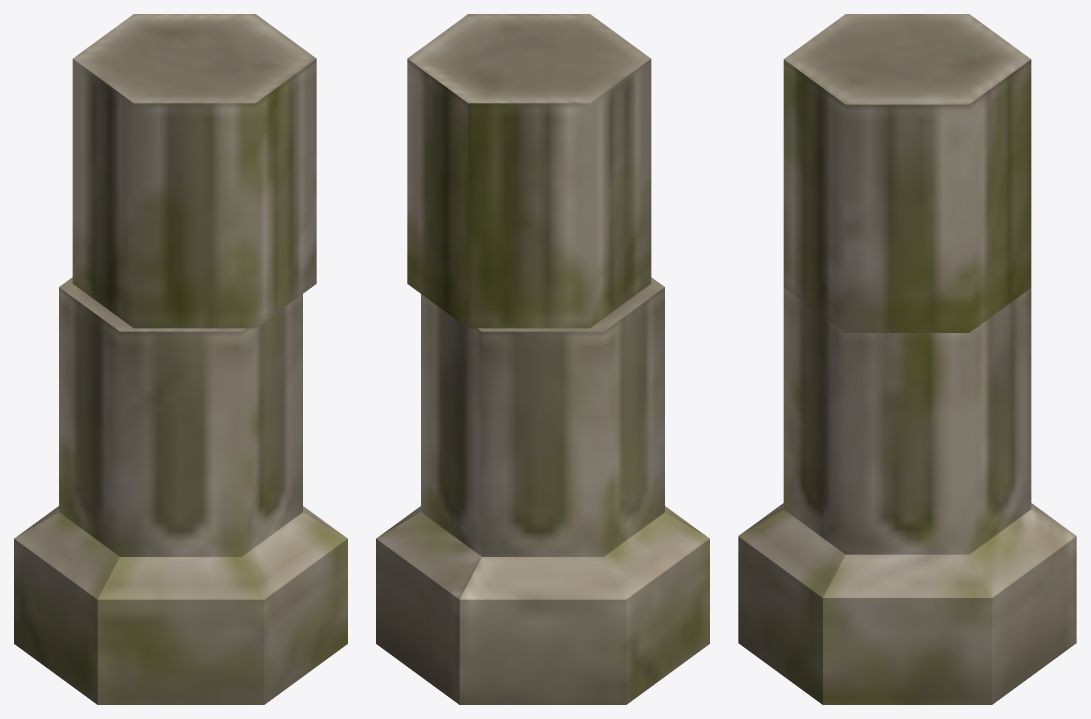
File: swamp_temple_8.FBX
The picture shows the model from 3 angles, left to right: view 1: azimuth 30°, elevation 25°; view 2: azimuth 150°, elevation 25°; view 3: azimuth 270°, elevation 25°; orthographic projection.
Visible parts, largest first — view 1: swamp_temple_8; view 2: swamp_temple_8; view 3: swamp_temple_8.
Boxes of the visible parts, x1,y1,x2,y2 form: swamp_temple_8: (14,14,347,704); swamp_temple_8: (376,14,709,704); swamp_temple_8: (738,14,1076,704).
Bounding box in the file's own units: 24.4 × 54.23 × 28.18.
